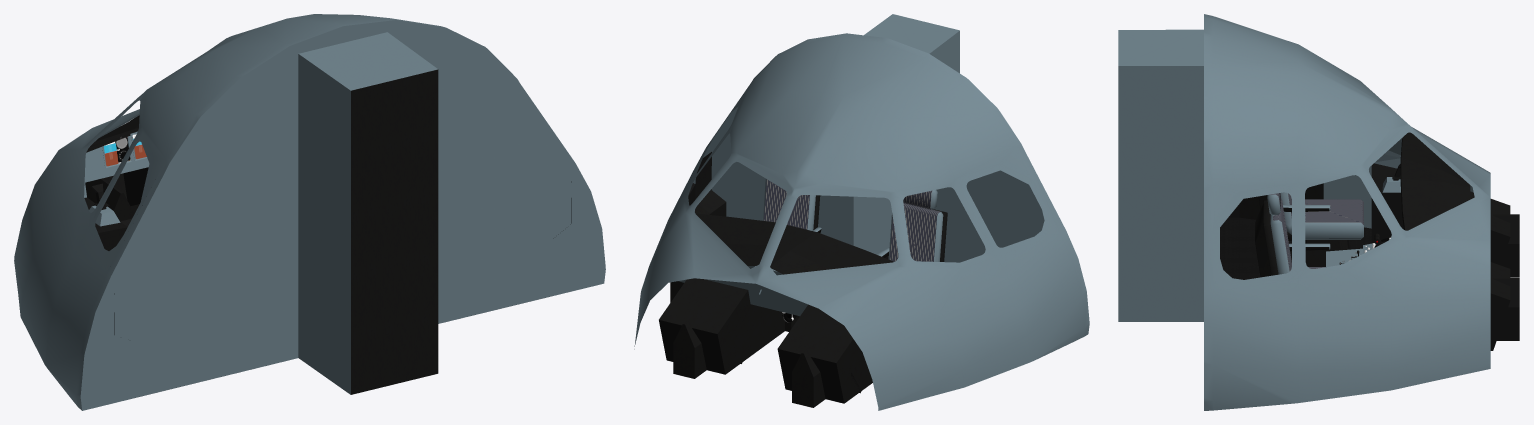
3 renders of one model, left to right at view 1: azimuth 30°, elevation 25°; view 2: azimuth 150°, elevation 25°; view 3: azimuth 270°, elevation 25°, orthographic. The views are drawn at different scales.
Parts seen in each view (by area): view 1: static-material-0, static-material-1; view 2: static-material-0, static-material-1, static-material-10; view 3: static-material-0, static-material-1, static-material-8, static-material-10.
Part boxes in pixels (x1=…): static-material-0: x1=14, y1=14, x2=605, y2=410; static-material-1: x1=84, y1=69, x2=571, y2=394; static-material-0: x1=634, y1=14, x2=1089, y2=410; static-material-1: x1=659, y1=152, x2=947, y2=407; static-material-10: x1=763, y1=179, x2=940, y2=261; static-material-0: x1=1118, y1=14, x2=1490, y2=410; static-material-1: x1=1228, y1=132, x2=1519, y2=350; static-material-8: x1=1220, y1=217, x2=1371, y2=279; static-material-10: x1=1270, y1=193, x2=1363, y2=271.
Size of what is drawn, in the model's own units: 3.57 by 2.1 by 2.81.
Materials: 63 (56 with a texture image).
